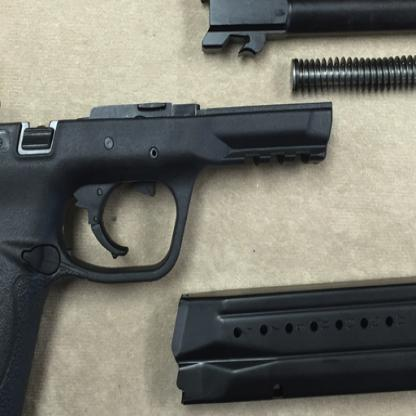gun: (0, 94, 333, 415)
